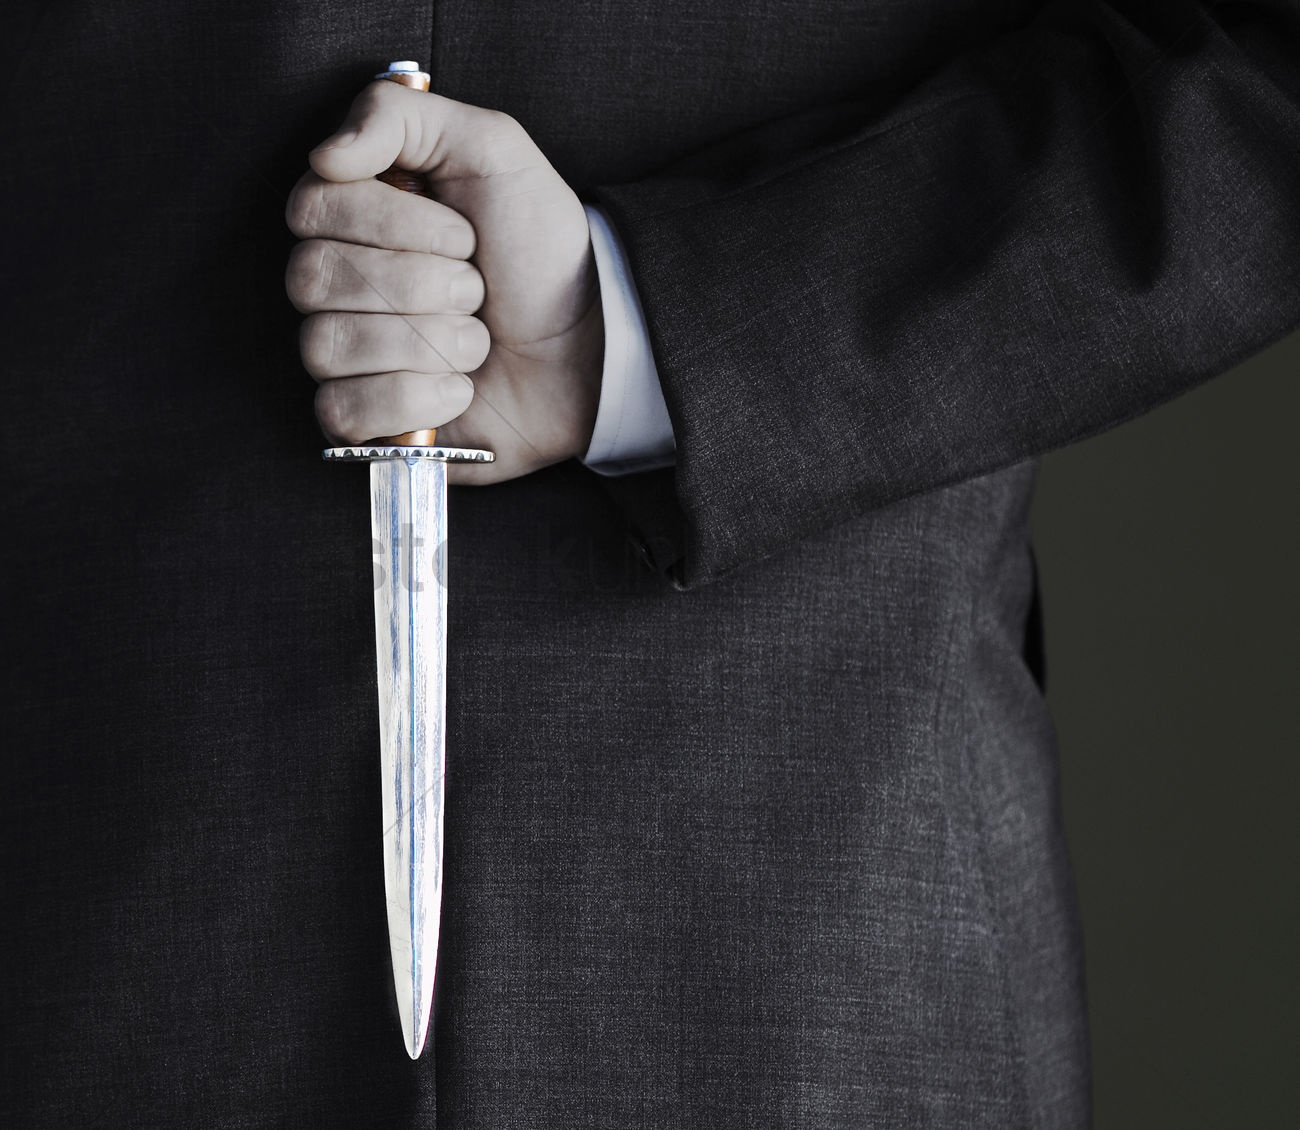knife: (326, 59, 499, 1063)
